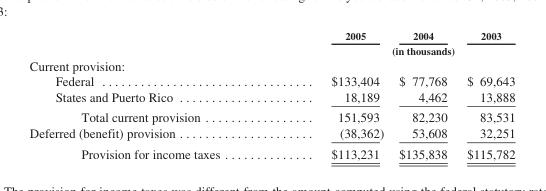table: (28, 29, 514, 160)
table column: (28, 29, 275, 160), (275, 29, 390, 160), (390, 29, 456, 160), (456, 29, 514, 160)
table column header: (28, 29, 514, 57)
table projected row header: (28, 57, 514, 73)
table row: (28, 88, 514, 106), (28, 106, 514, 124), (28, 124, 514, 142), (28, 142, 514, 160), (28, 57, 514, 73), (28, 42, 514, 57), (28, 73, 514, 88), (28, 29, 514, 42)
table spanning cell: (275, 42, 514, 57)
